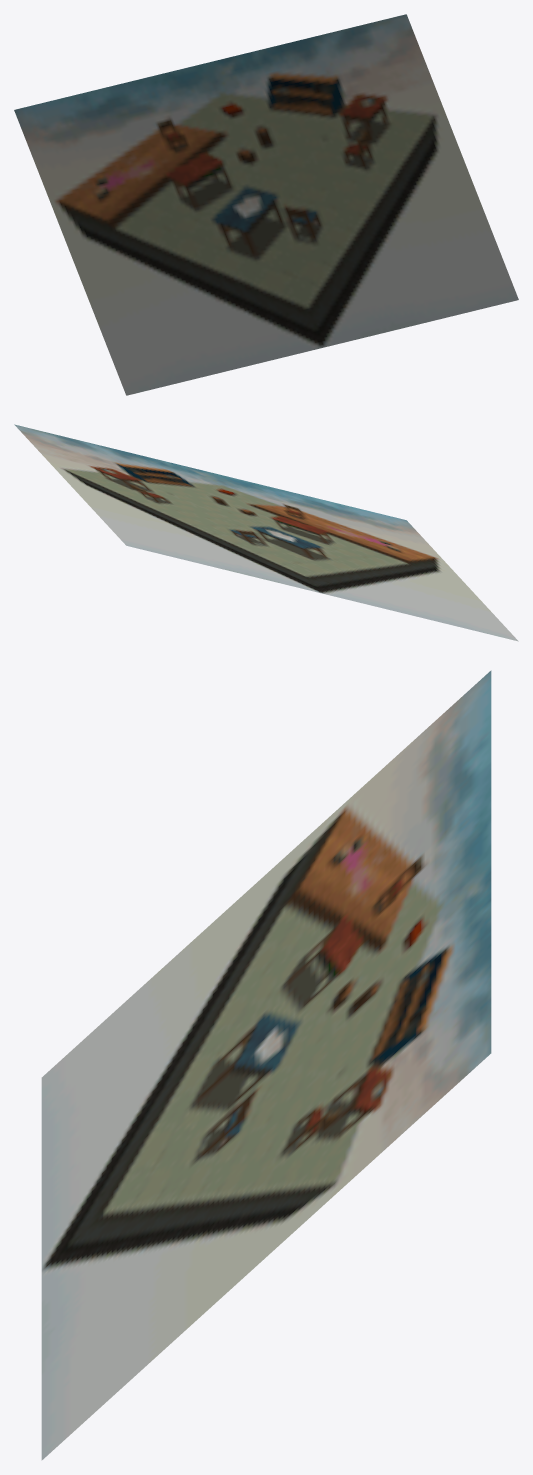
3 views of the same model, one above another, from view 1: azimuth 30°, elevation 25°; view 2: azimuth 150°, elevation 25°; view 3: azimuth 270°, elevation 25° (orthographic). The views are drawn at different scales.
Parts seen in each view (by area): view 1: Joint_0_Object_0; view 2: Joint_0_Object_0; view 3: Joint_0_Object_0.
Boxes of the visible parts, x1,y1,x2,y2 form: Joint_0_Object_0: (14,14,518,395); Joint_0_Object_0: (14,424,518,641); Joint_0_Object_0: (41,670,491,1460).
Size of the model in its own units: 241 by 120 by 120.
Materials: 1 (1 with a texture image).
